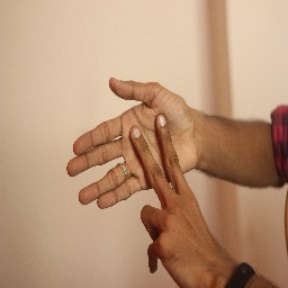N: (63, 76, 212, 273)
